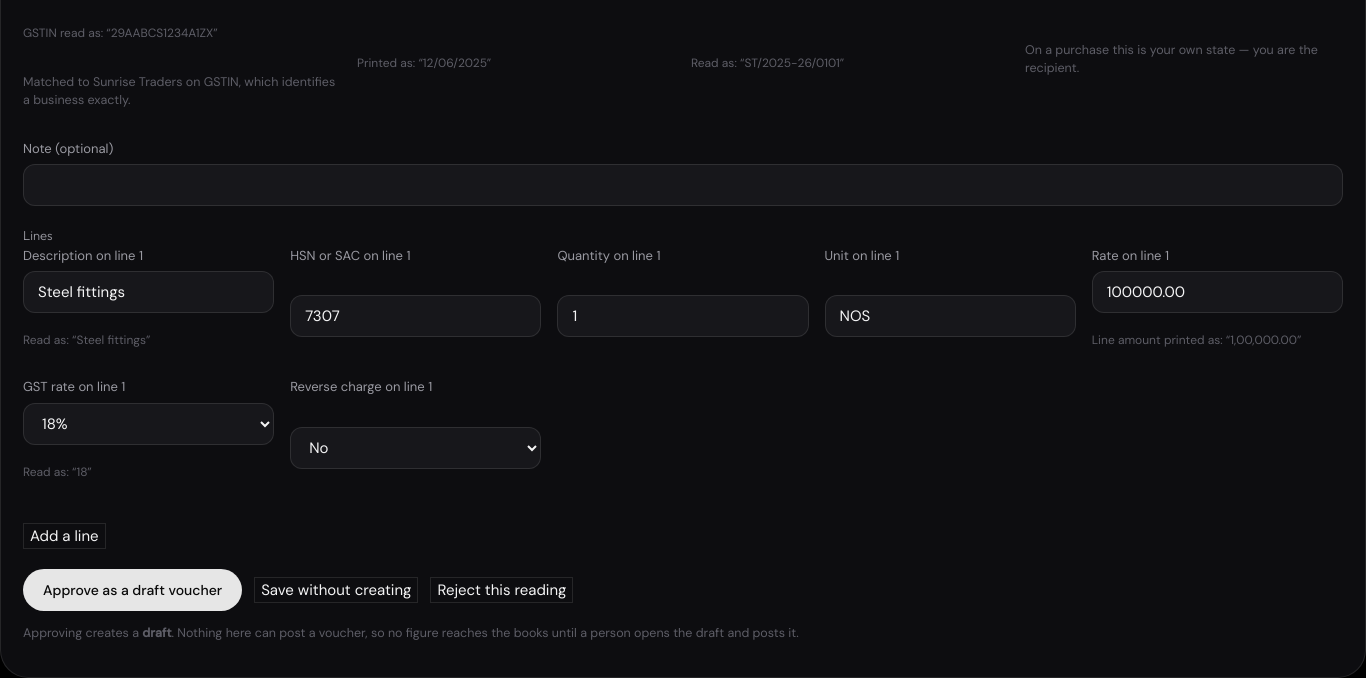
Test: ReviewForm › reports the draft it created, and that it is not in the books
(page scrolled)
Click the button "Approve as a draft voucher" at (133, 590), box [23,569,242,611]
(page scrolled)
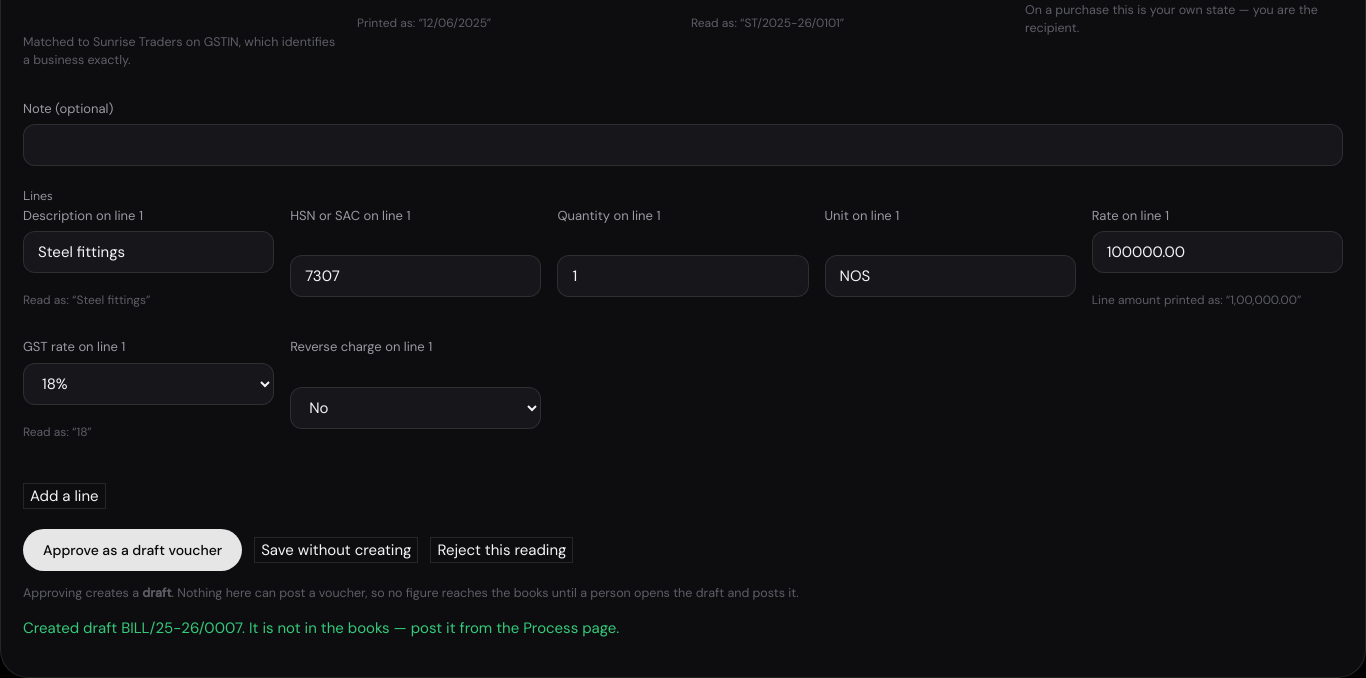
Check: the text "not in the books" is shown, box [23,618,619,638]
